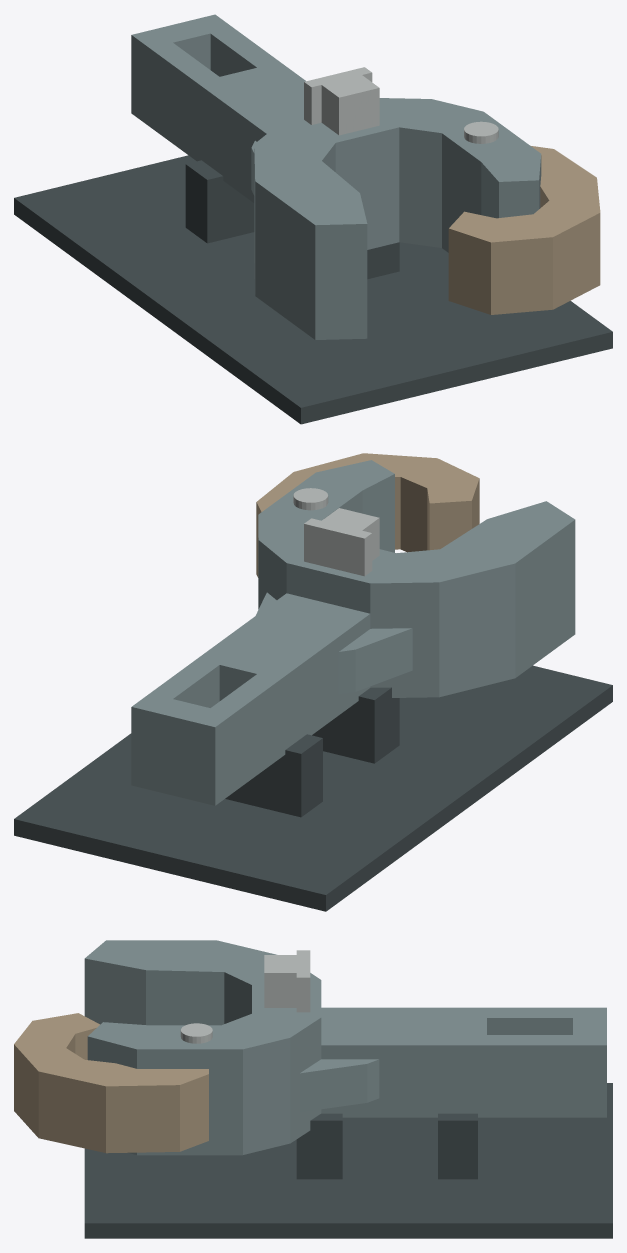
The picture shows the model from 3 angles, top to bottom: view 1: azimuth 30°, elevation 25°; view 2: azimuth 150°, elevation 25°; view 3: azimuth 270°, elevation 25°; orthographic projection. The views are drawn at different scales.
Parts seen in each view (by area): view 1: WholeLowDisplayCradle, WholeFlaredGuardHead, WholeSlottedLongTailShank, WholeFixedCurvedKnuckle, WholeRaisedLockStem, WholeVerticalKnucklePin; view 2: WholeLowDisplayCradle, WholeFlaredGuardHead, WholeSlottedLongTailShank, WholeFixedCurvedKnuckle, WholeRaisedLockStem, WholeTailShoulderRibLeft, WholeVerticalKnucklePin; view 3: WholeLowDisplayCradle, WholeFlaredGuardHead, WholeSlottedLongTailShank, WholeFixedCurvedKnuckle, WholeTailShoulderRibRight, WholeRaisedLockStem, WholeVerticalKnucklePin.
Boxes of the visible parts, left/top/right/bottom form: WholeLowDisplayCradle: left=14, top=155, right=612, bottom=424; WholeFlaredGuardHead: left=254, top=98, right=541, bottom=339; WholeSlottedLongTailShank: left=131, top=14, right=305, bottom=202; WholeFixedCurvedKnuckle: left=448, top=145, right=600, bottom=314; WholeRaisedLockStem: left=304, top=67, right=379, bottom=135; WholeVerticalKnucklePin: left=464, top=121, right=498, bottom=143; WholeLowDisplayCradle: left=14, top=665, right=612, bottom=911; WholeFlaredGuardHead: left=258, top=460, right=575, bottom=697; WholeSlottedLongTailShank: left=131, top=593, right=370, bottom=805; WholeFixedCurvedKnuckle: left=256, top=453, right=479, bottom=577; WholeRaisedLockStem: left=304, top=508, right=379, bottom=576; WholeTailShoulderRibLeft: left=338, top=628, right=412, bottom=694; WholeVerticalKnucklePin: left=293, top=488, right=328, bottom=510; WholeLowDisplayCradle: left=84, top=1083, right=612, bottom=1238; WholeFlaredGuardHead: left=84, top=940, right=321, bottom=1155; WholeSlottedLongTailShank: left=321, top=1007, right=606, bottom=1117; WholeFixedCurvedKnuckle: left=14, top=1013, right=208, bottom=1153; WholeTailShoulderRibRight: left=299, top=1059, right=379, bottom=1112; WholeRaisedLockStem: left=264, top=950, right=310, bottom=1012; WholeVerticalKnucklePin: left=180, top=1023, right=212, bottom=1043.
Bounding box in the file's own units: 1.08 × 0.735 × 1.95.
